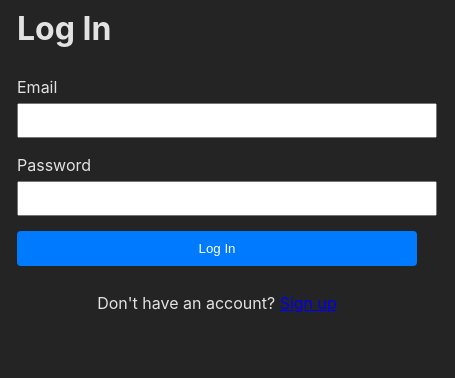
LoginPage › should display validation errors for empty fields
Click the button "Log In" at (217, 248), box [17, 231, 417, 266]
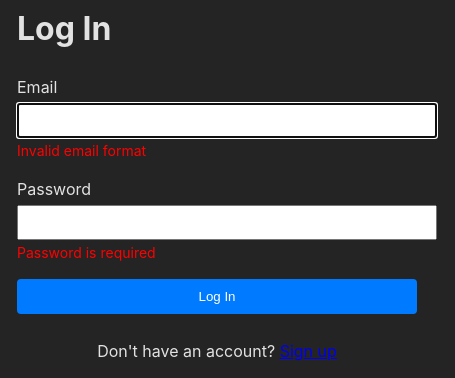
Result: the text "Invalid email format" is shown at [17, 142, 146, 159]
Result: the text "Password is required" is shown at [17, 244, 156, 261]
